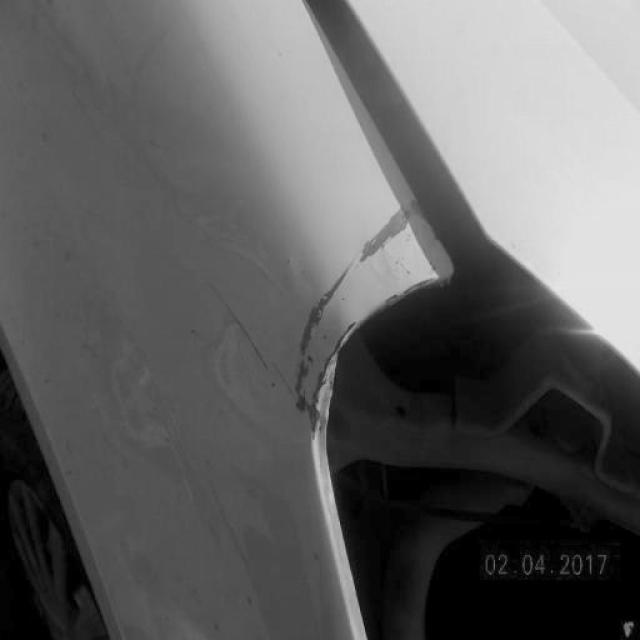car damage: (305, 316, 357, 450), (299, 262, 355, 358), (351, 193, 423, 264), (290, 354, 322, 417)
